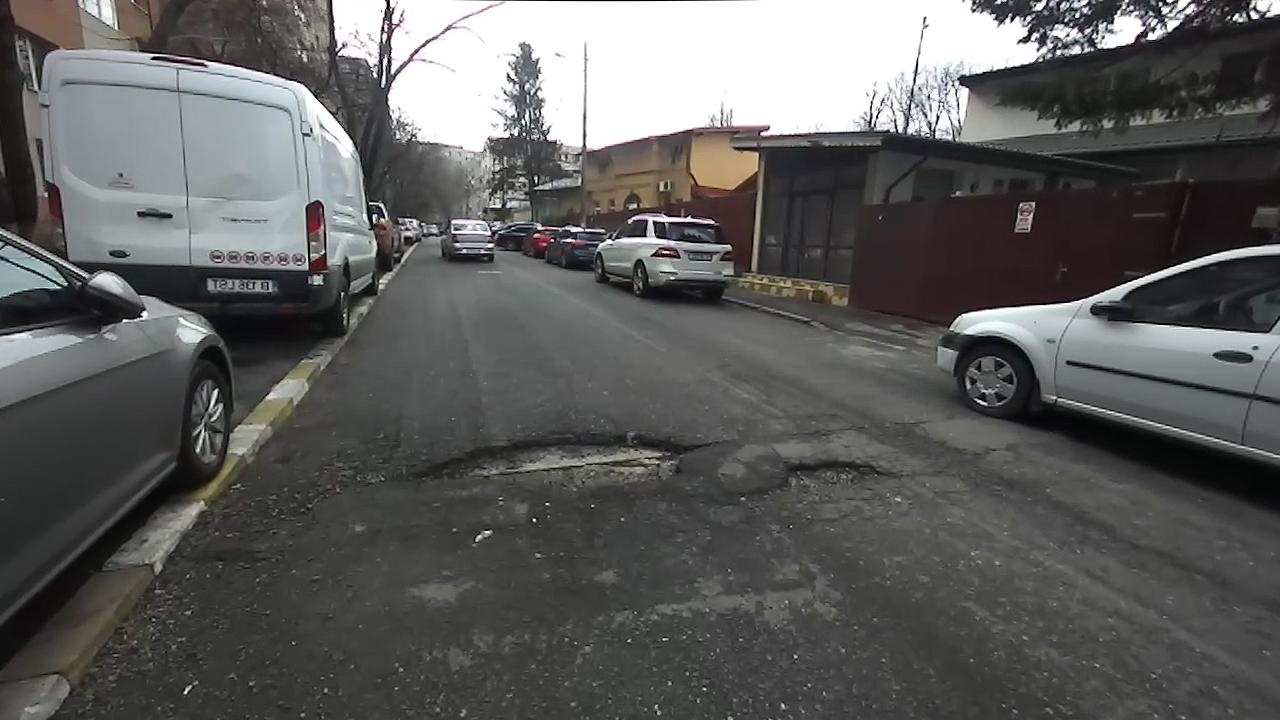pothole: (407, 424, 704, 492), (734, 454, 895, 504)
